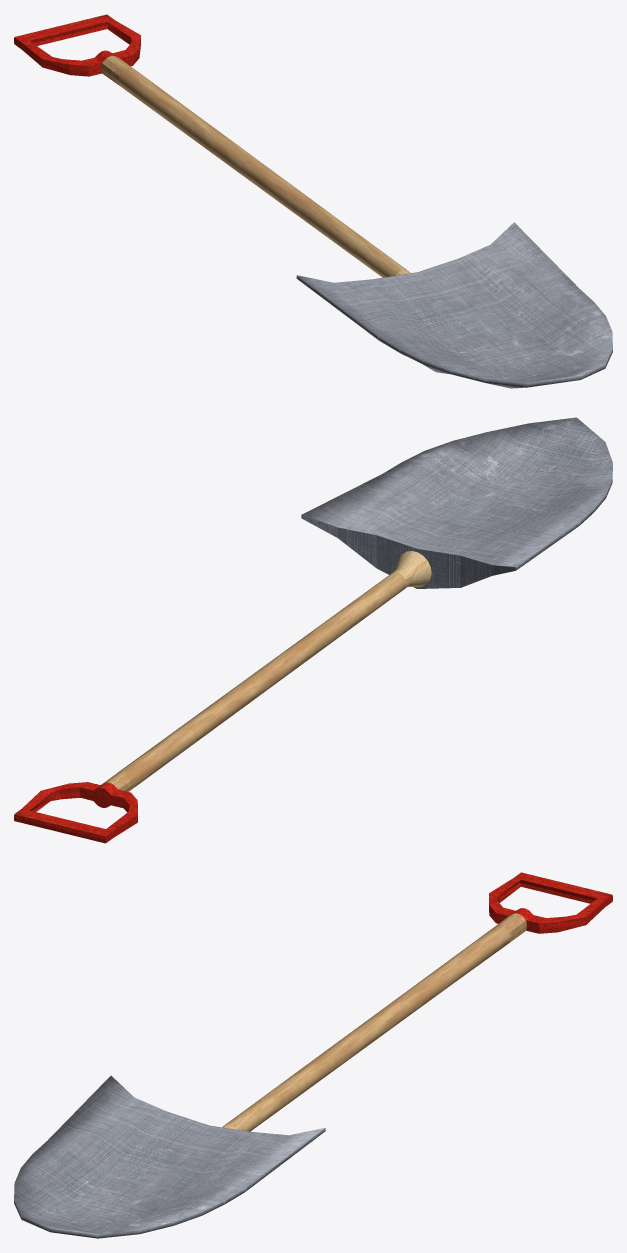
Rendered from 3D_ENVSH_001.FBX.
The picture shows the model from 3 angles, top to bottom: view 1: azimuth 30°, elevation 25°; view 2: azimuth 150°, elevation 25°; view 3: azimuth 330°, elevation 25°; orthographic projection.
Visible parts, largest first — view 1: Cylinder001; view 2: Cylinder001; view 3: Cylinder001.
Boxes of the visible parts, left/top/right/bottom form: Cylinder001: left=14, top=14, right=612, bottom=388; Cylinder001: left=14, top=417, right=612, bottom=843; Cylinder001: left=14, top=872, right=612, bottom=1238.
Size of the model in its own units: 89.63 by 22.42 by 373.
